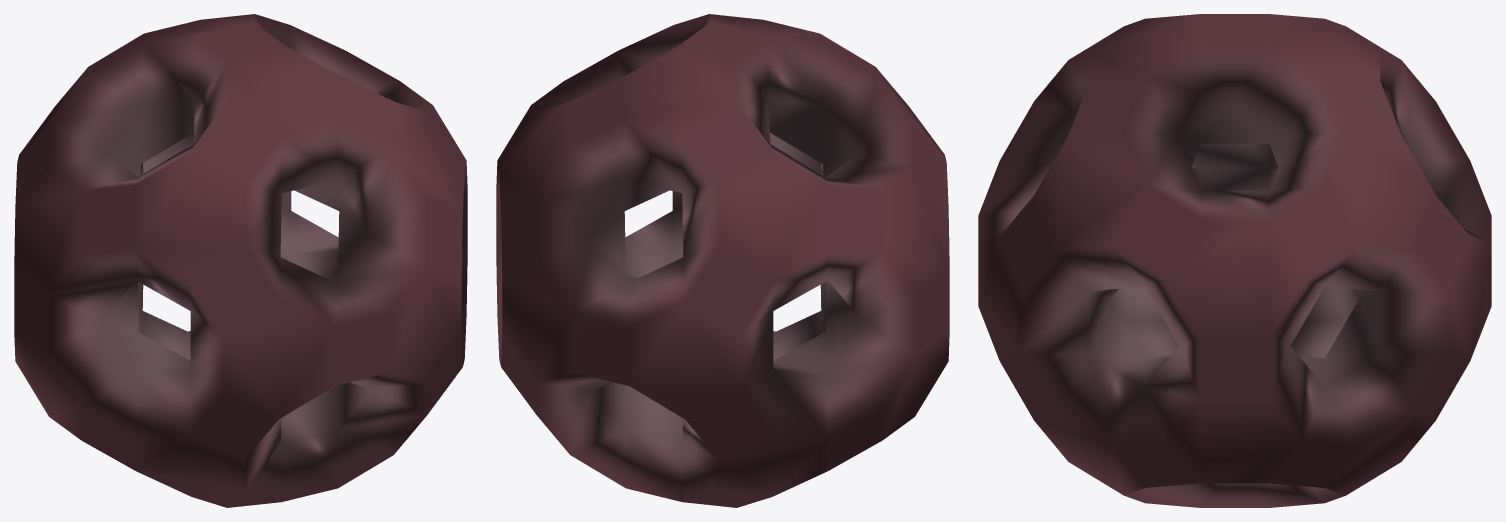
The model's file is zeometry-sculptural-holey-ball_v1.glb.
3 renders of one model, left to right at view 1: azimuth 30°, elevation 25°; view 2: azimuth 150°, elevation 25°; view 3: azimuth 270°, elevation 25°, orthographic. The views are drawn at different scales.
Visible parts, largest first — view 1: Holey Ball; view 2: Holey Ball; view 3: Holey Ball.
Part boxes in pixels (box(x1,y1,x2,y2)): Holey Ball: box(14, 14, 467, 507); Holey Ball: box(496, 14, 949, 507); Holey Ball: box(978, 14, 1491, 507).
Bounding box in the file's own units: 0.5 × 0.5 × 0.5.
